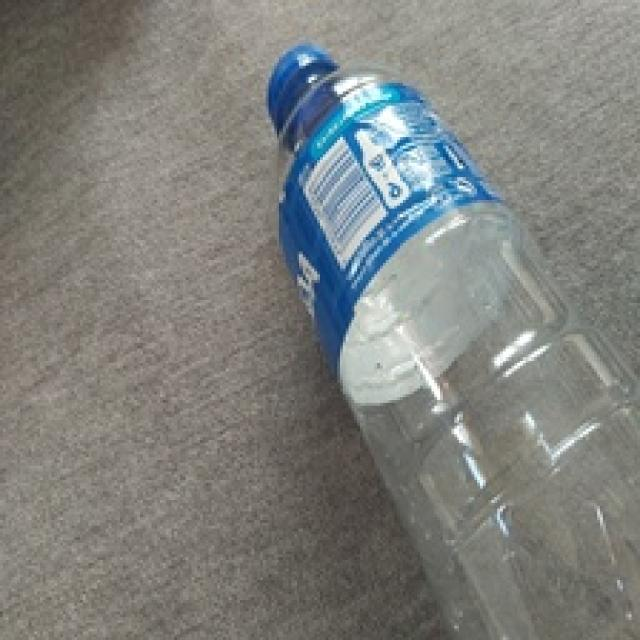plastic: (230, 41, 634, 634)
